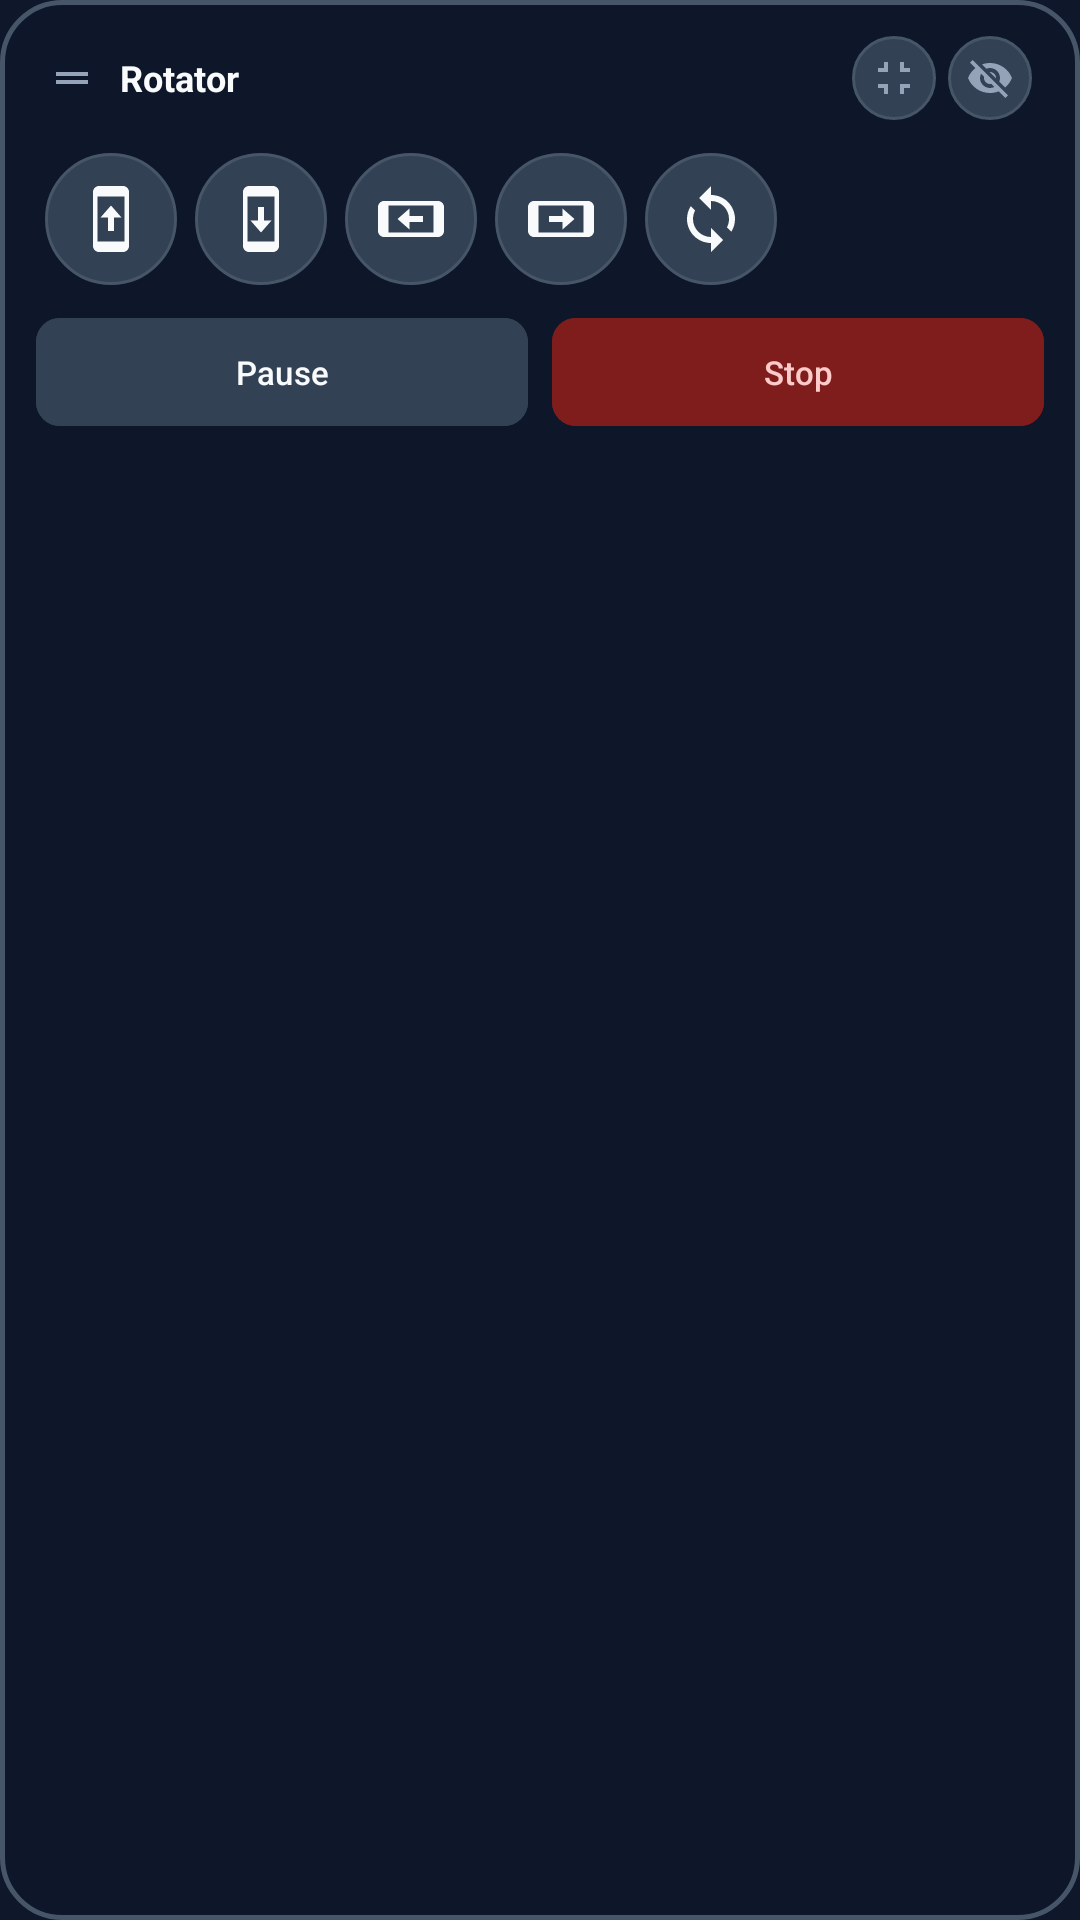

Named icons in this screenshot (1080px×1920px) and their bounding boxes, (x1, y1, x2, y2):
Auto-Rotate: (645, 153, 777, 285)
Drag: (56, 72, 88, 84)
Hide: (948, 36, 1032, 120)
Landscape Left: (345, 153, 477, 285)
Landscape Right: (495, 153, 627, 285)
Minimize: (852, 36, 936, 120)
Portrait: (45, 153, 177, 285)
Reverse Portrait: (195, 153, 327, 285)
